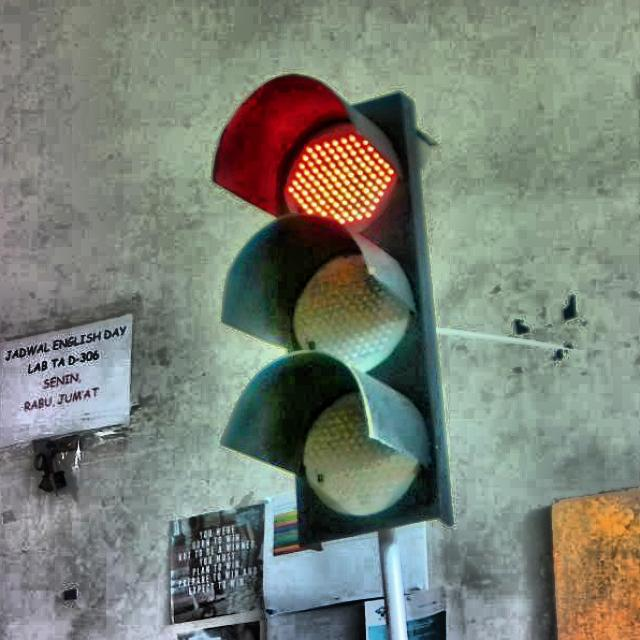red: (217, 85, 450, 523)
